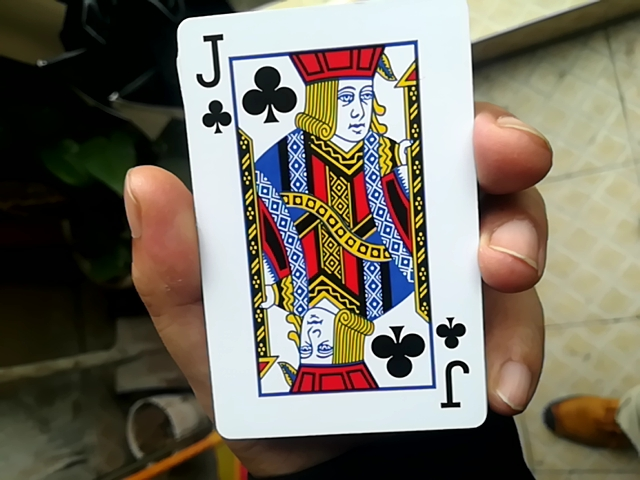mh j: (173, 1, 487, 429)
